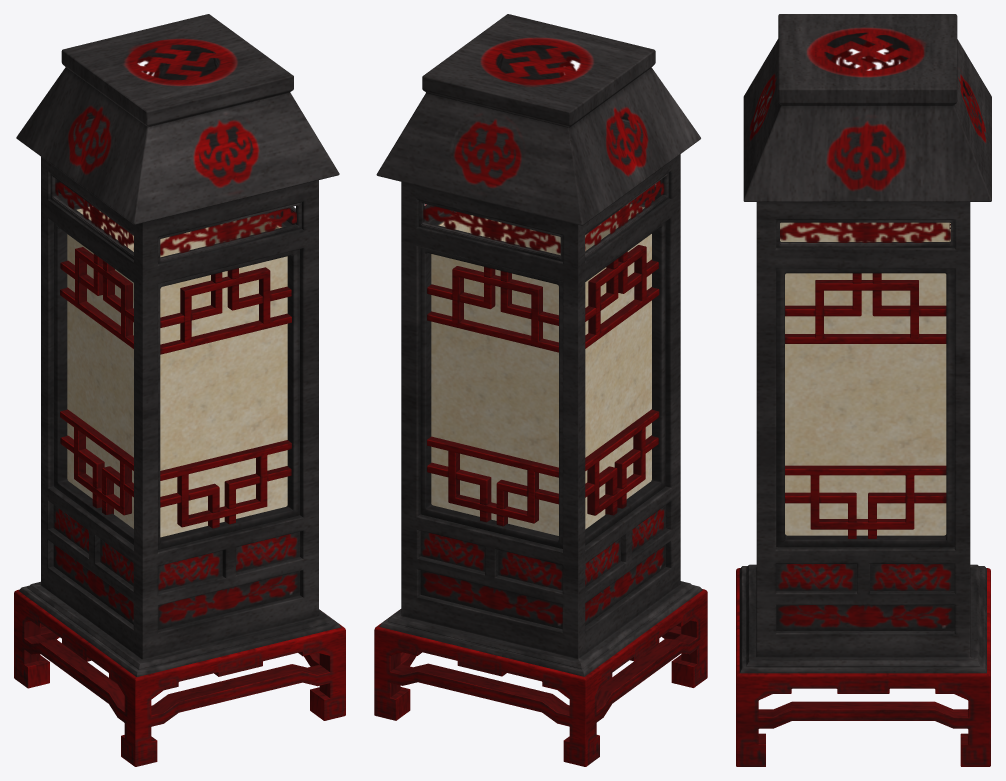
Rendered from lamp.glb.
The picture shows the model from 3 angles, left to right: view 1: azimuth 30°, elevation 25°; view 2: azimuth 150°, elevation 25°; view 3: azimuth 270°, elevation 25°; orthographic projection. The views are drawn at different scales.
Visible parts, largest first — view 1: SM_GJJ_LightA; view 2: SM_GJJ_LightA; view 3: SM_GJJ_LightA.
Boxes of the visible parts, x1,y1,x2,y2 form: SM_GJJ_LightA: [14, 14, 345, 766]; SM_GJJ_LightA: [374, 14, 707, 766]; SM_GJJ_LightA: [736, 14, 991, 766].
Bounding box in the file's own units: 0.3745 × 1.07 × 0.3756.
1 material, 1 textured.
